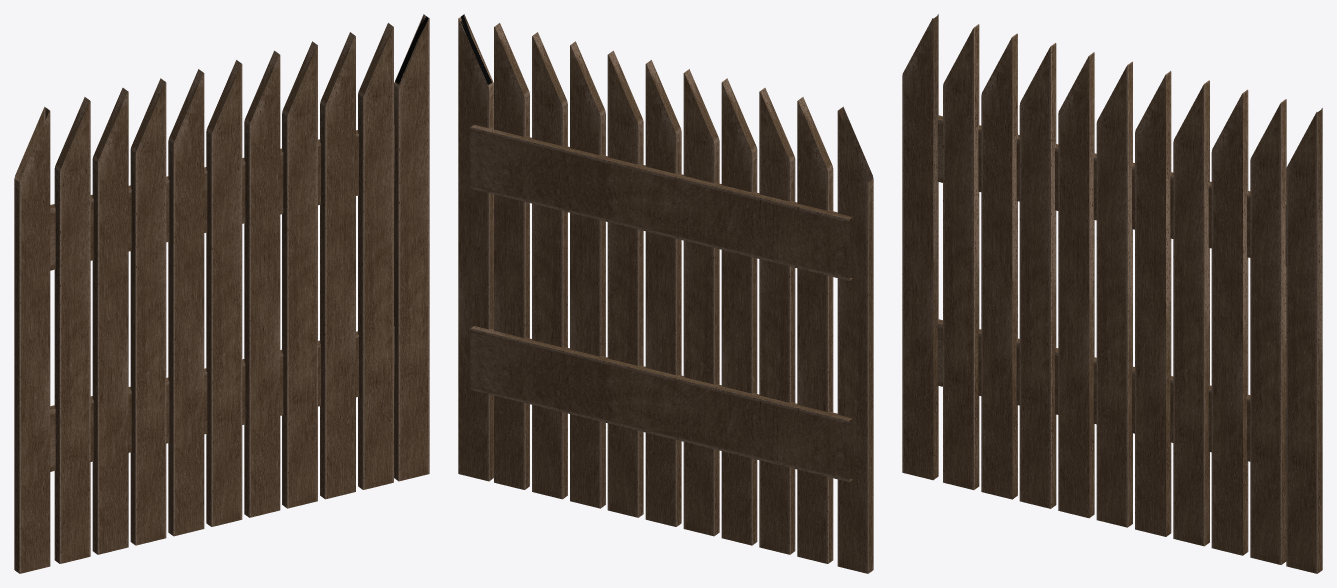
File: Fence_2.fbx
3 views of the same model, side by side, from view 1: azimuth 30°, elevation 25°; view 2: azimuth 150°, elevation 25°; view 3: azimuth 330°, elevation 25° (orthographic).
Parts seen in each view (by area): view 1: Fence_2; view 2: Fence_2; view 3: Fence_2.
Part boxes in pixels (box(x1,y1,x2,y2)): Fence_2: box(14, 14, 429, 573); Fence_2: box(458, 14, 873, 573); Fence_2: box(902, 14, 1322, 573).
Size of the model in its own units: 2.16 by 2.3 by 0.0791.
